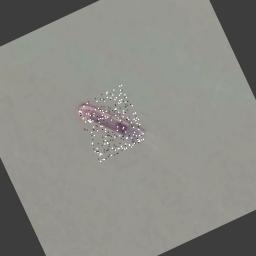boat: (74, 84, 149, 162)
